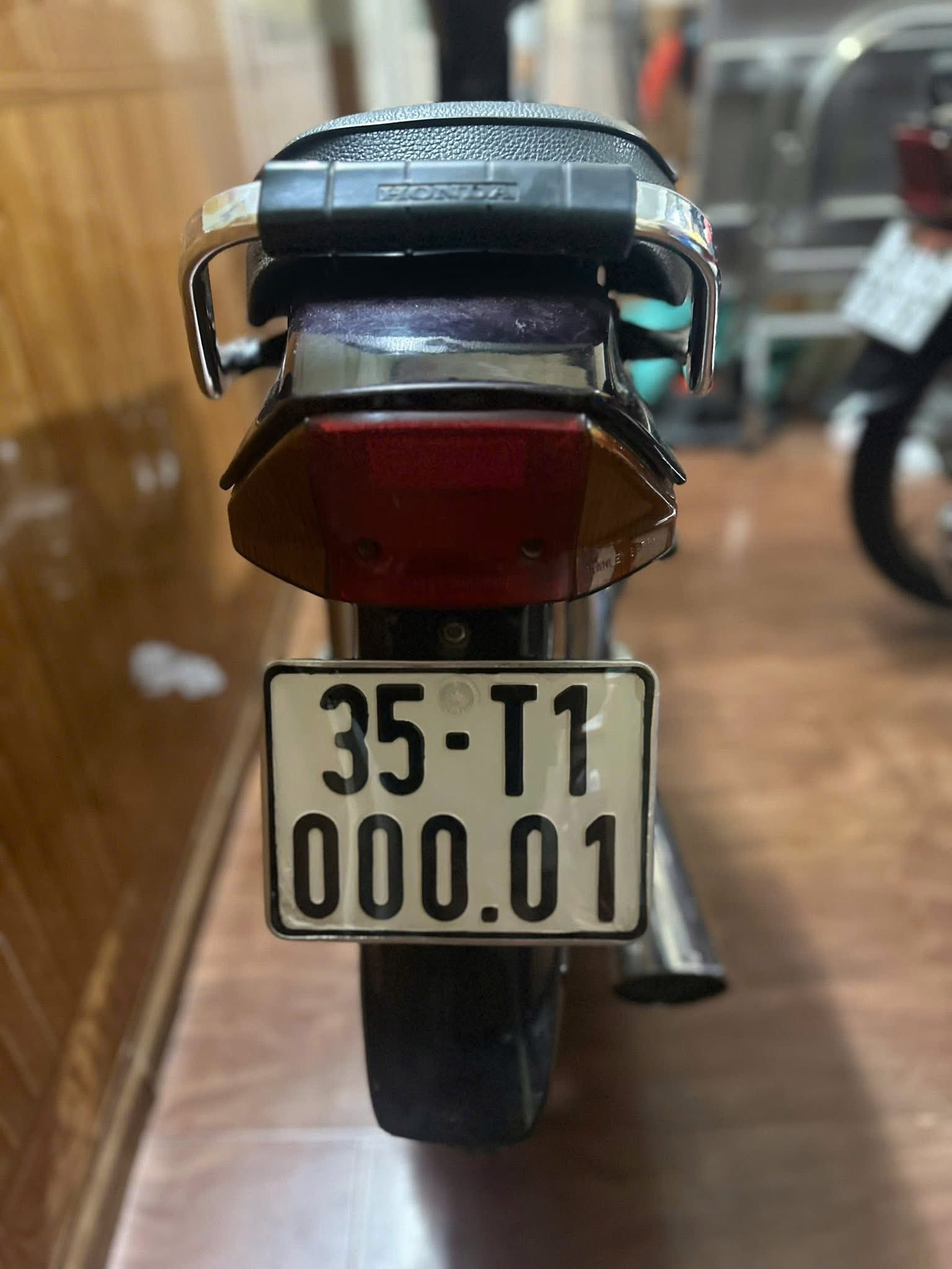bien_so: (239, 636, 675, 958)
